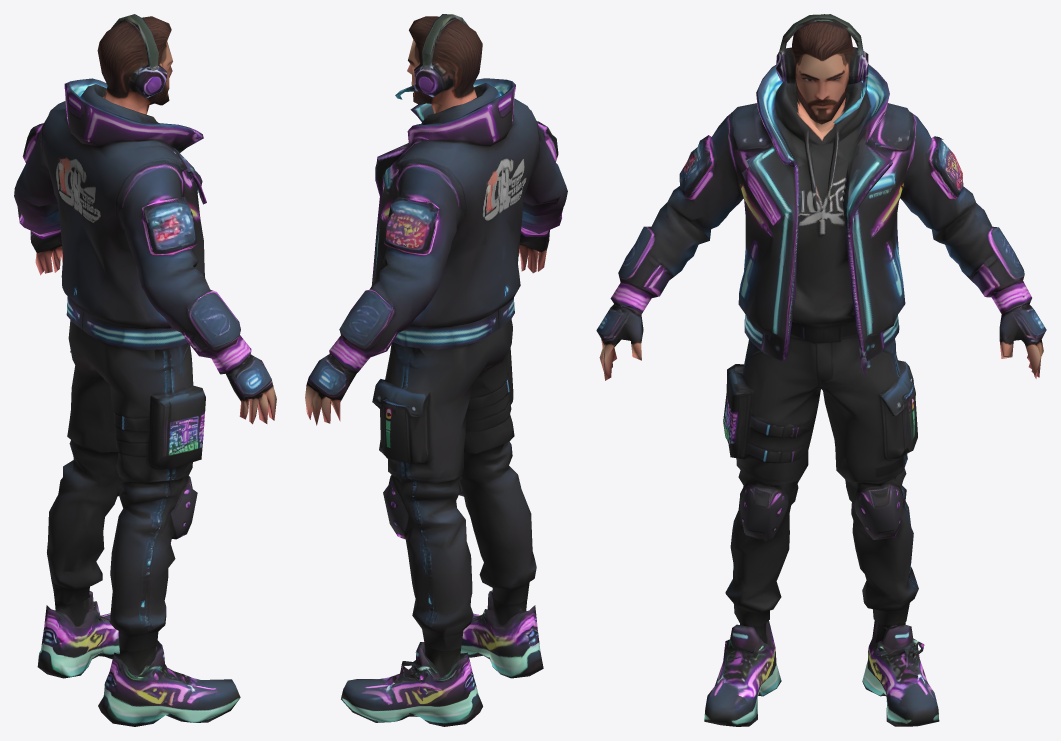
File: player_static.glb
3 renders of one model, left to right at view 1: azimuth 30°, elevation 25°; view 2: azimuth 150°, elevation 25°; view 3: azimuth 270°, elevation 25°, orthographic. The views are drawn at different scales.
Parts seen in each view (by area): view 1: tripo_node_fd0c3c85-a03e-4e55-8797-f142965eeb8f; view 2: tripo_node_fd0c3c85-a03e-4e55-8797-f142965eeb8f; view 3: tripo_node_fd0c3c85-a03e-4e55-8797-f142965eeb8f.
Part boxes in pixels (box(x1,y1,x2,y2)): tripo_node_fd0c3c85-a03e-4e55-8797-f142965eeb8f: box(14, 14, 276, 726); tripo_node_fd0c3c85-a03e-4e55-8797-f142965eeb8f: box(305, 14, 567, 726); tripo_node_fd0c3c85-a03e-4e55-8797-f142965eeb8f: box(596, 14, 1046, 726).
Bounding box in the file's own units: 0.1898 × 1 × 0.588.
1 material, 1 textured.
